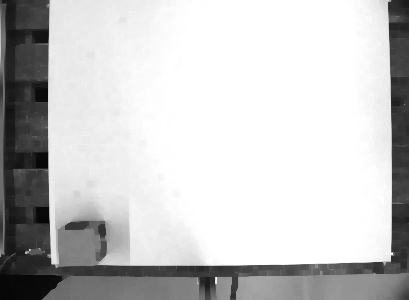b7: (54, 218, 109, 268)
